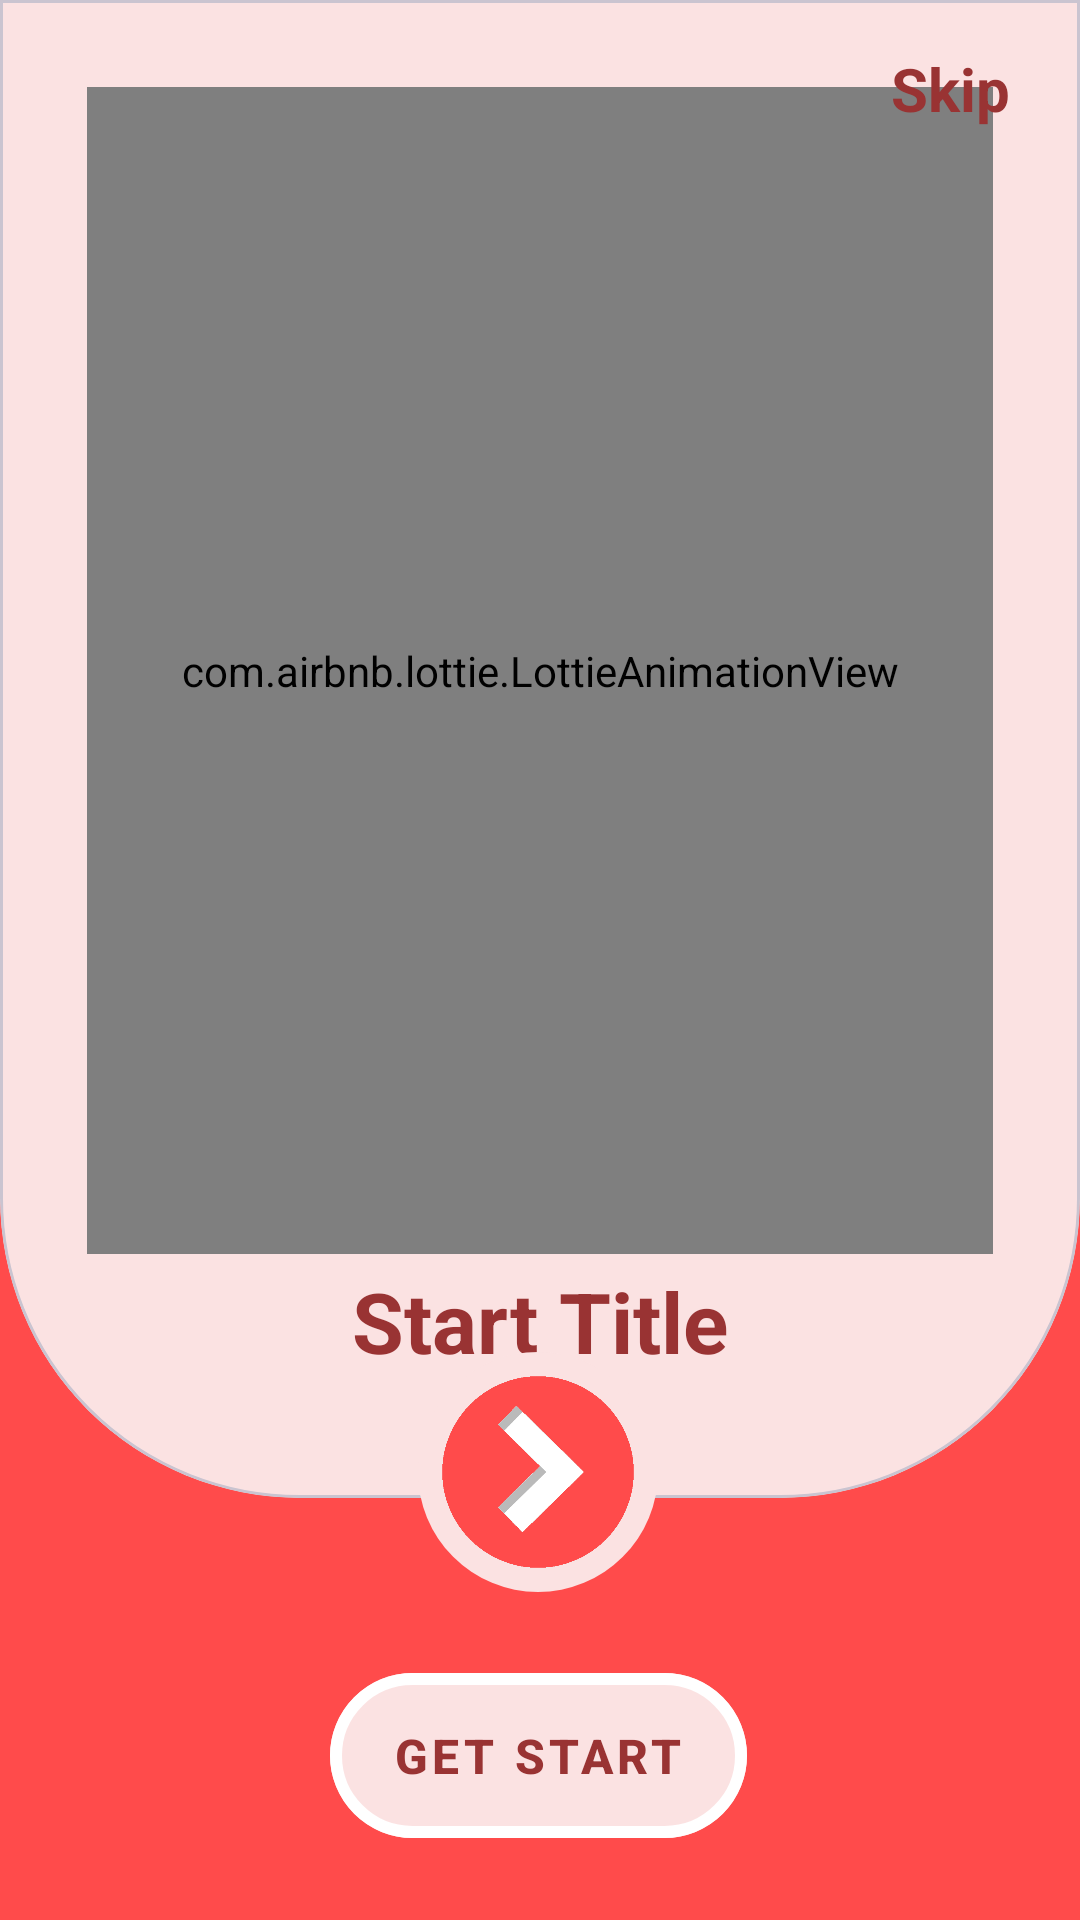

Point at icon controls on the screen. Image size 1080px x 1920px, points as (x=x, y=y).
arrow right: (x=538, y=1472)
